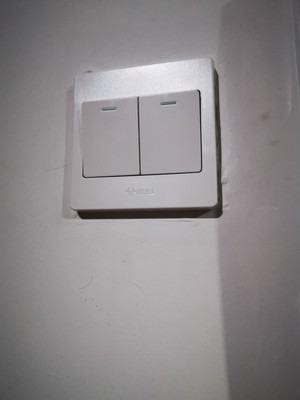switch: (134, 87, 208, 177), (76, 94, 144, 180)
